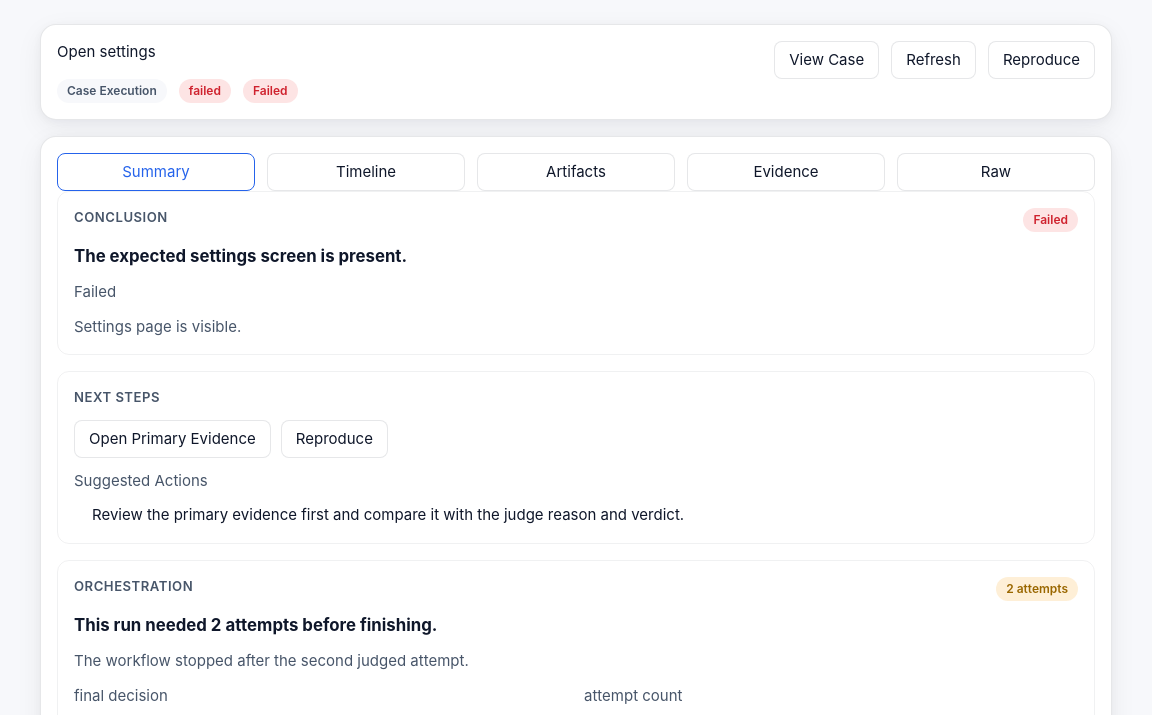
Test: RunDetailPage › renders manifest-aware artifacts and disables directory preview
Click the button "Artifacts": (576, 172) [477,153,675,191]
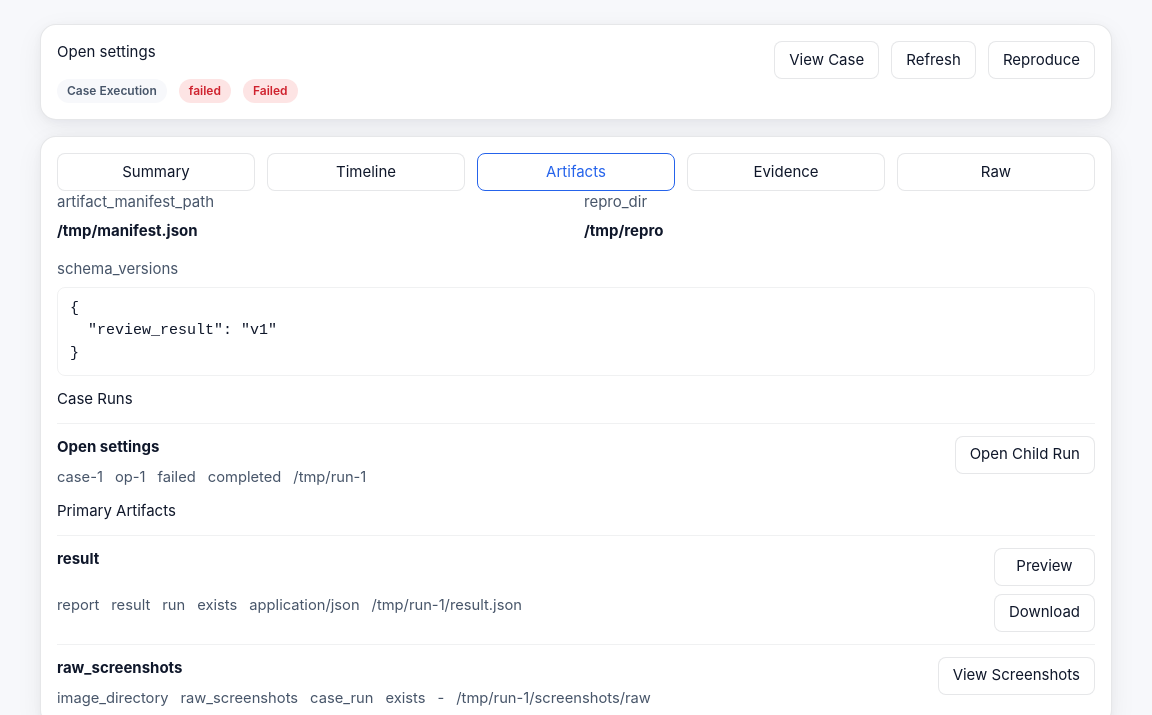
Result: the text "/tmp/manifest.json" is shown at [57,220,198,240]
Result: the text "/tmp/run-1/result.json" is shown at [372,596,522,614]
Result: the text "Case Runs" is shown at [57,389,133,408]
